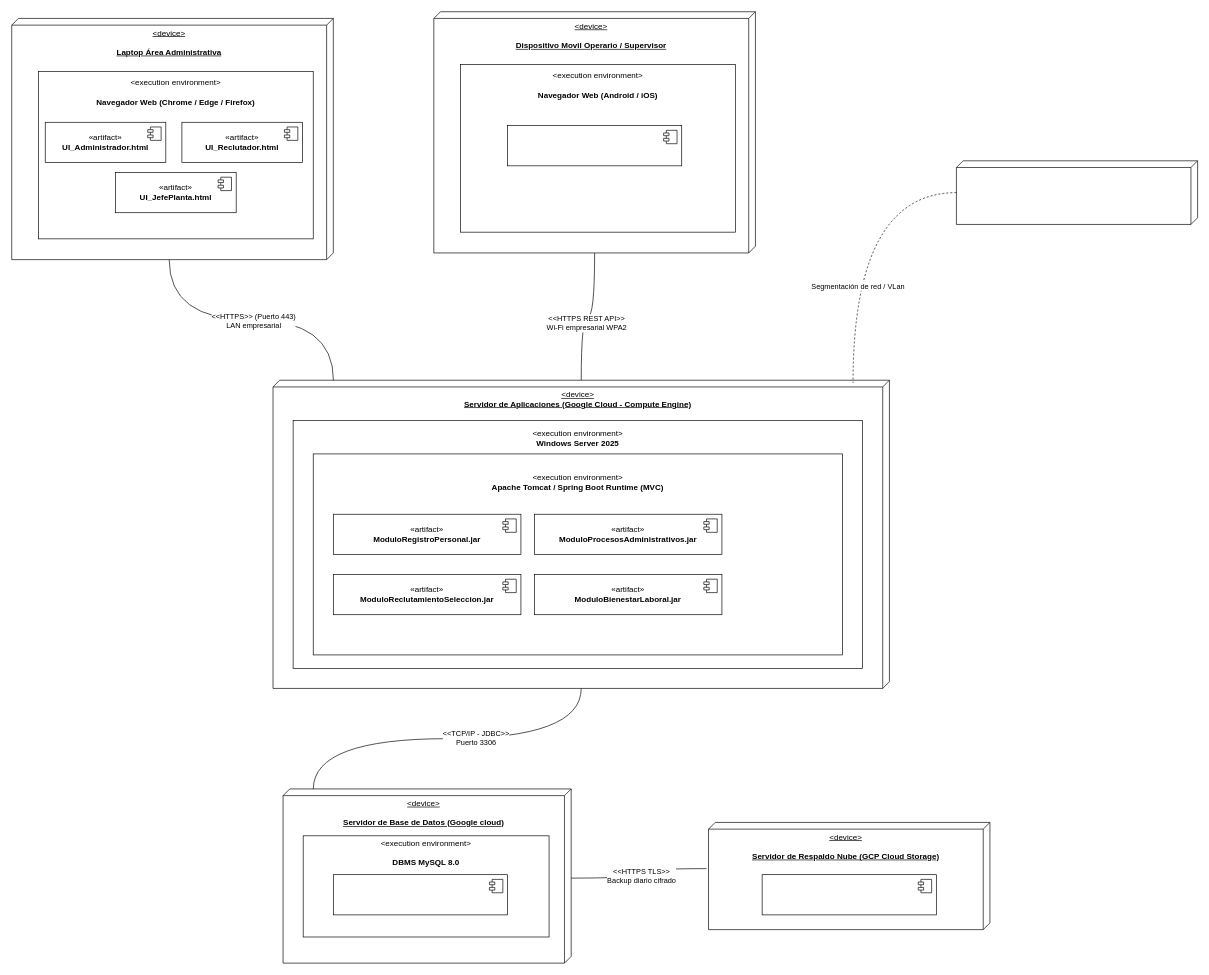
This 1209x975 diagram has some shape labels left out. Here are the shapes that lost their labels. From the top down, the centre of each, then its label:
At (594,145): "«artifact» UI_Movil_TalentSoft_Responsive.html".
At (1077,192): "<device> Router / Firewall Empresarial".
At (420,894): "«artifact» BD_TalentSoft".
At (848,894): "«artifact» Backup_Diario_TalentSoft.tar.gz".
